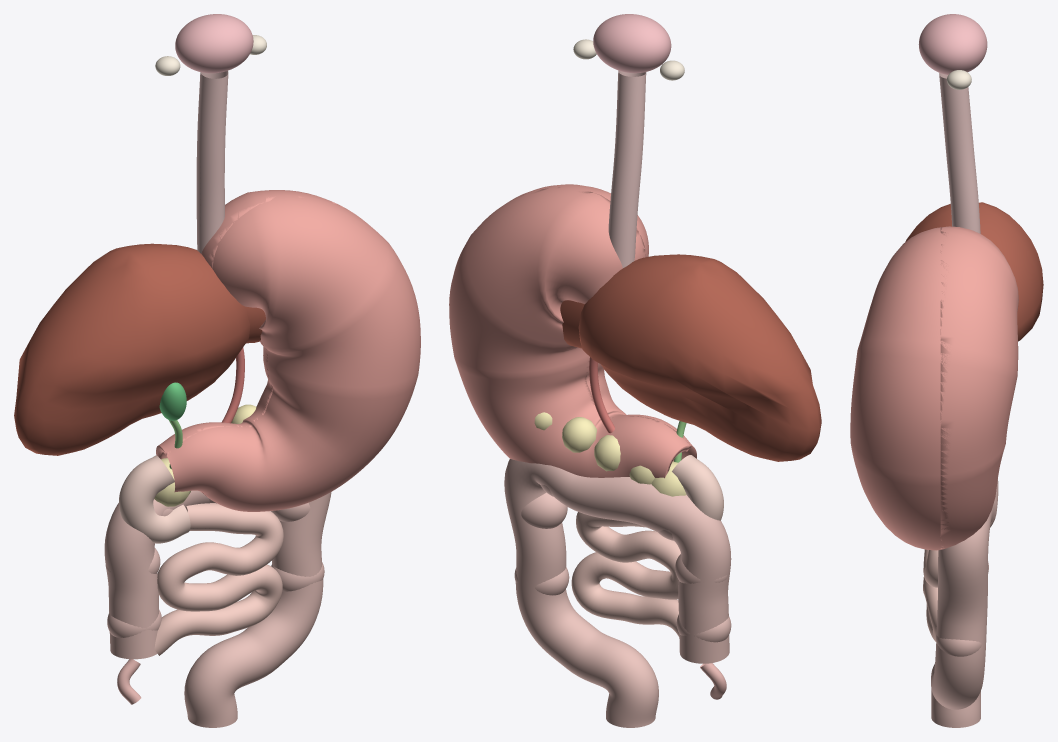
The model's file is digestive-system.glb.
3 views of the same model, side by side, from view 1: azimuth 30°, elevation 25°; view 2: azimuth 150°, elevation 25°; view 3: azimuth 270°, elevation 25° (orthographic).
Parts seen in each view (by area): view 1: Full_Stomach, Full_Liver, Full_Large_Intestine_trunk, Full_Small_Intestine, Full_Esophagus, Full_Mouth, Full_Duodenum, Full_Pancreas, Sec_Stomach, Full_Gallbladder, Sec_Stomach_rugae_2, Full_Large_Intestine_haustrum_0 (+1 smaller); view 2: Full_Stomach, Full_Liver, Full_Large_Intestine_trunk, Full_Small_Intestine, Full_Esophagus, Full_Mouth, Full_Pancreas, Full_Duodenum, Full_Large_Intestine_haustrum_5, Sec_Stomach_rugae_2, Full_Large_Intestine_haustrum_0; view 3: Full_Stomach, Full_Large_Intestine_trunk, Full_Liver, Full_Esophagus, Full_Mouth, Sec_Stomach, Full_Small_Intestine, Full_Large_Intestine_haustrum_6, Full_Salivary_L.
Part boxes in pixels (box(x1,y1,x2,y2)): Full_Stomach: box(158, 190, 420, 511); Full_Liver: box(14, 243, 265, 455); Full_Large_Intestine_trunk: box(104, 490, 331, 727); Full_Small_Intestine: box(154, 503, 283, 655); Full_Esophagus: box(196, 71, 228, 253); Full_Mouth: box(175, 14, 253, 73); Full_Duodenum: box(119, 455, 190, 543); Full_Pancreas: box(154, 404, 256, 506); Sec_Stomach: box(156, 196, 353, 496); Full_Gallbladder: box(159, 382, 186, 420); Sec_Stomach_rugae_2: box(221, 347, 244, 423); Full_Large_Intestine_haustrum_0: box(107, 609, 161, 637); Full_Stomach: box(449, 184, 696, 478); Full_Liver: box(560, 254, 821, 461); Full_Large_Intestine_trunk: box(504, 459, 731, 727); Full_Small_Intestine: box(571, 512, 680, 636); Full_Esophagus: box(608, 70, 646, 267); Full_Mouth: box(593, 14, 671, 73); Full_Pancreas: box(534, 412, 686, 496); Full_Duodenum: box(672, 455, 723, 520); Full_Large_Intestine_haustrum_5: box(521, 492, 567, 528); Sec_Stomach_rugae_2: box(589, 357, 614, 433); Full_Large_Intestine_haustrum_0: box(676, 614, 731, 642); Full_Stomach: box(850, 226, 1018, 550); Full_Large_Intestine_trunk: box(931, 479, 998, 727); Full_Liver: box(905, 202, 1043, 341); Full_Esophagus: box(939, 73, 980, 233); Full_Mouth: box(918, 14, 987, 74); Sec_Stomach: box(940, 227, 954, 549); Full_Small_Intestine: box(923, 549, 938, 641); Full_Large_Intestine_haustrum_6: box(936, 633, 981, 656); Full_Salivary_L: box(947, 70, 971, 89).
Size of the model in its own units: 0.1392 by 0.247 by 0.0619.
